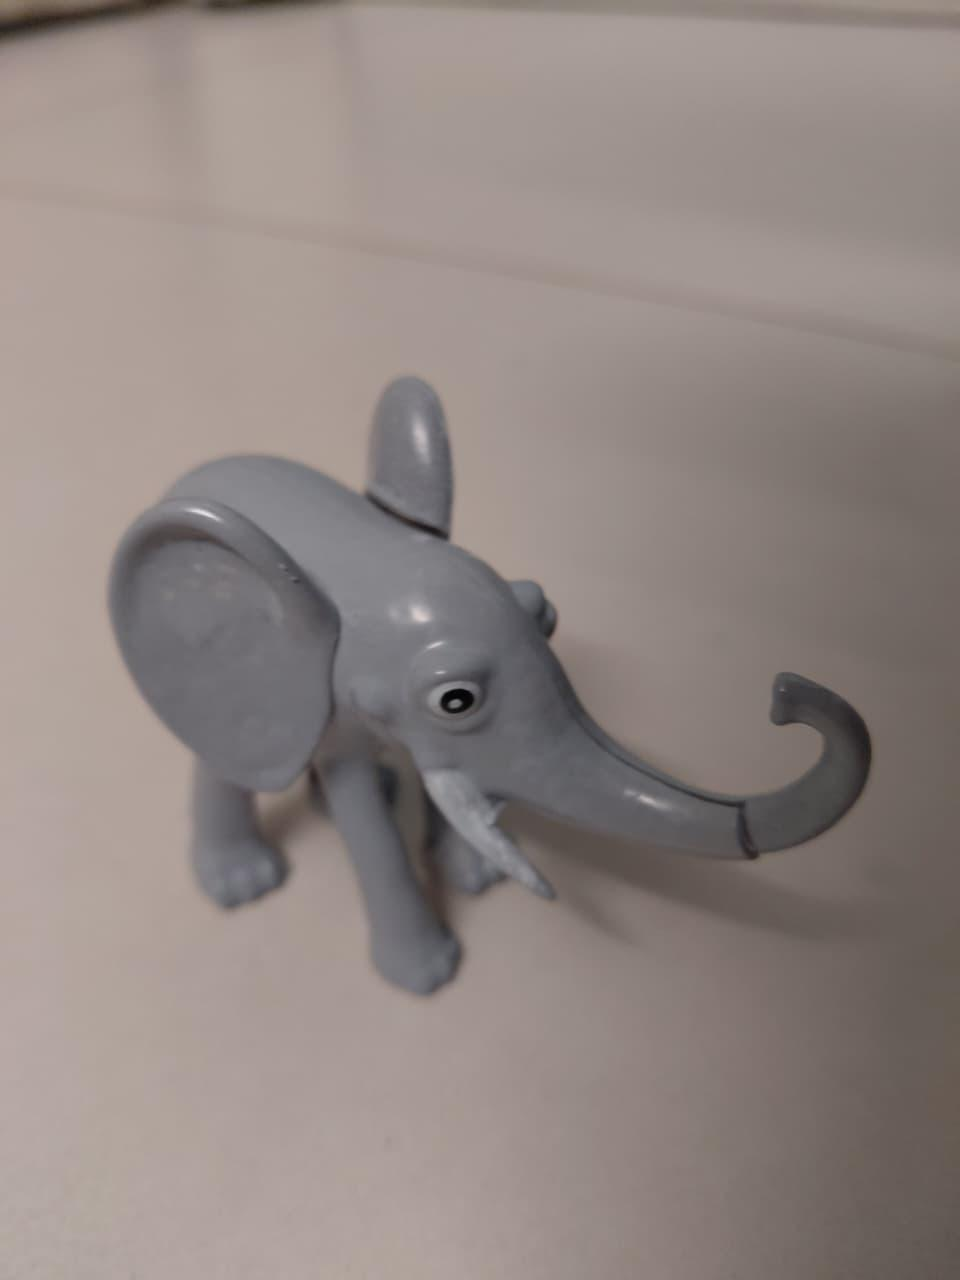elephant: (70, 351, 899, 1084)
